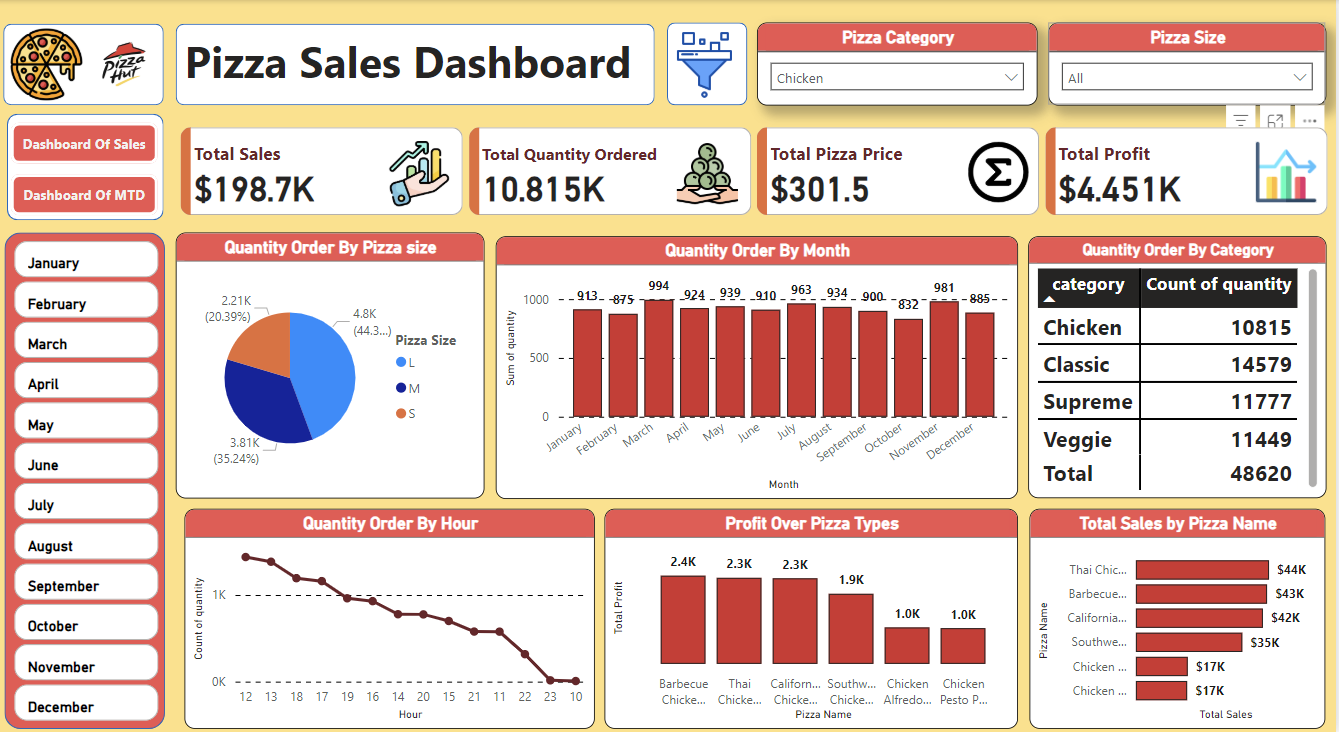

The dashboard page shown, as its layout file describes it:
{"tool":"powerbi","page":{"name":"Dashboard Of Orders","canvas":[1329,728],"ordinal":0},"visuals":[{"type":"shape","box":[7.5,230.2,159.3,492.8],"z":0},{"type":"advancedSlicerVisual","fields":{"Values":["Orders.date.Variation.Date Hierarchy.Month"]},"box":[12.4,233.9,153.1,492.8],"z":1000},{"type":"slicer","title":"Pizza  Category","fields":{"Values":["Pizza_Type.category"]},"box":[754.1,22.4,278.7,82.1],"z":2000},{"type":"slicer","title":"Pizza  Size","fields":{"Values":["Pizza.size"]},"box":[1042.8,22.4,276.3,82.1],"z":3000},{"type":"cardVisual","fields":{"Data":["Sum(Order_Details.Total_Sales)","CountNonNull(Order_Details.quantity)","Sum(Pizza.price)","Order_Details.Total Profit"]},"box":[177.9,121.9,1151.1,97.1],"z":4000},{"type":"pieChart","title":"Quantity Order By Pizza size","fields":{"Category":["Order_Details.Pizza.size"],"Y":["CountNonNull(Order_Details.quantity)"]},"box":[177.9,230.2,306.1,263.8],"z":5000},{"type":"clusteredColumnChart","title":"Profit Over Pizza Types","fields":{"Category":["Pizza_Type.name"],"Y":["CountNonNull(Order_Details.quantity)"]},"box":[602.9,504.9,410.6,218.4],"z":6000},{"type":"tableEx","title":"Quantity Order By Category","fields":{"Values":["Pizza_Type.category","CountNonNull(Order_Details.quantity)"]},"box":[1024.1,233.9,296.2,260.1],"z":7000},{"type":"lineChart","title":"Quantity Order By Hour","fields":{"Y":["CountNonNull(Order_Details.quantity)"],"Category":["Orders.Hour"]},"box":[186.1,505,407.6,218.5],"z":8000},{"type":"clusteredColumnChart","title":"Quantity Order By Month","fields":{"Category":["Orders.date.Variation.Date Hierarchy.Month"],"Y":["Sum(Order_Details.quantity)"]},"box":[495,234.5,518.6,260.5],"z":9000},{"type":"shape","box":[6.2,23.6,159.3,80.9],"z":10000},{"type":"image","box":[8.7,23.6,80.9,80.9],"z":11000},{"type":"shape","box":[177.9,23.6,475.4,80.9],"z":12000},{"type":"shape","box":[664.5,22.4,79.6,82.1],"z":13000},{"type":"image","box":[663.3,26.1,77.2,77.2],"z":14000},{"type":"textbox","box":[181.7,26.1,466.6,74.7],"z":15000},{"type":"clusteredBarChart","title":"Total Sales by Pizza Name","fields":{"Category":["Pizza_Type.name"],"Y":["Sum(Order_Details.Total_Sales)"]},"box":[1024.8,505,293.9,218.5],"z":16000},{"type":"shape","box":[10,113.2,155.5,105.8],"z":17000},{"type":"image","box":[85.9,22.4,80.9,82.1],"z":18000},{"type":"pageNavigator","box":[13.7,121.9,146.8,92.1],"z":19000}]}

Visuals, with their boxes in screenshot pixels (x1, y1, x2, y2), scaled from the page's 1329x728 canvas onto the 1339x732 screenshot:
shape: [left=8, top=231, right=168, bottom=727]
advancedSlicerVisual - Orders.date.Variation.Date Hierarchy.Month: [left=12, top=235, right=167, bottom=731]
"Pizza  Category" slicer: [left=760, top=23, right=1041, bottom=105]
"Pizza  Size" slicer: [left=1051, top=23, right=1329, bottom=105]
cardVisual - Sum(Order_Details.Total_Sales) x CountNonNull(Order_Details.quantity): [left=179, top=123, right=1338, bottom=220]
"Quantity Order By Pizza size" pieChart: [left=179, top=231, right=488, bottom=497]
"Profit Over Pizza Types" clusteredColumnChart: [left=607, top=508, right=1021, bottom=727]
"Quantity Order By Category" tableEx: [left=1032, top=235, right=1330, bottom=497]
"Quantity Order By Hour" lineChart: [left=188, top=508, right=598, bottom=727]
"Quantity Order By Month" clusteredColumnChart: [left=499, top=236, right=1021, bottom=498]
shape: [left=6, top=24, right=167, bottom=105]
image: [left=9, top=24, right=90, bottom=105]
shape: [left=179, top=24, right=658, bottom=105]
shape: [left=670, top=23, right=750, bottom=105]
image: [left=668, top=26, right=746, bottom=104]
textbox: [left=183, top=26, right=653, bottom=101]
"Total Sales by Pizza Name" clusteredBarChart: [left=1033, top=508, right=1329, bottom=727]
shape: [left=10, top=114, right=167, bottom=220]
image: [left=87, top=23, right=168, bottom=105]
pageNavigator: [left=14, top=123, right=162, bottom=215]
